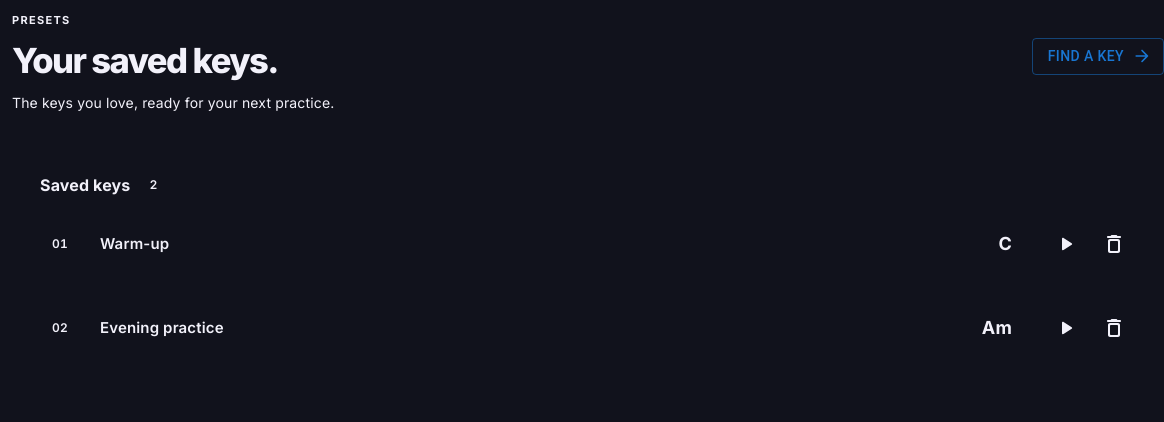
Test case: saved music interactions › allows retrying a saved recording after playback fails
This screenshot has width=1164, height=422.
Click the button named "Play tone Warm-up".
click(1066, 244)  # box [1044,222,1088,266]
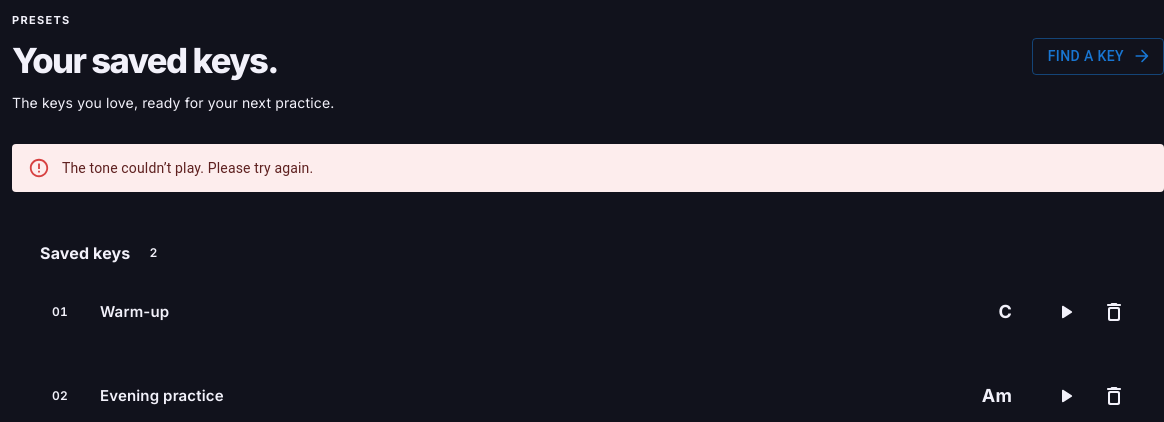
Expected: the message reads "The tone couldn’t play. Please try again.", [62,160,313,176]
Click the button named "Play tone Warm-up".
click(1066, 312)  # box [1044,290,1088,334]
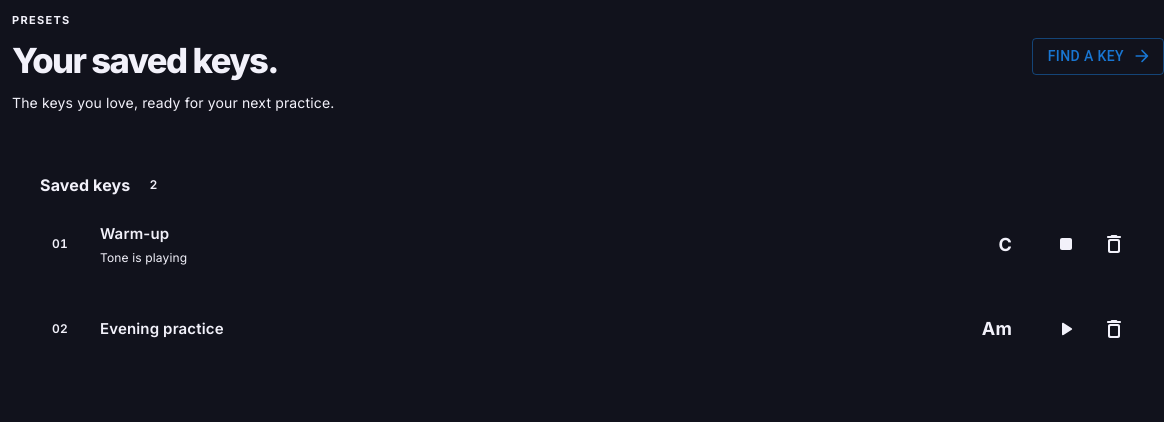
Expected: the message "The tone couldn’t play. Please try again." is gone
